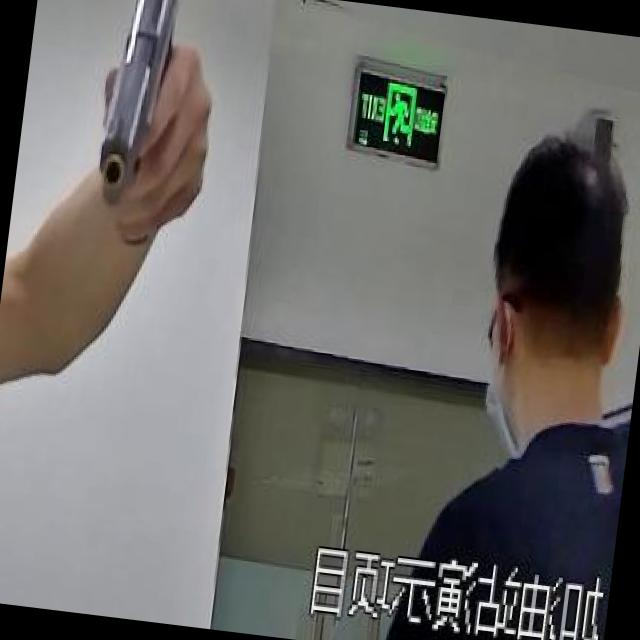Guns: (49, 0, 220, 261)
